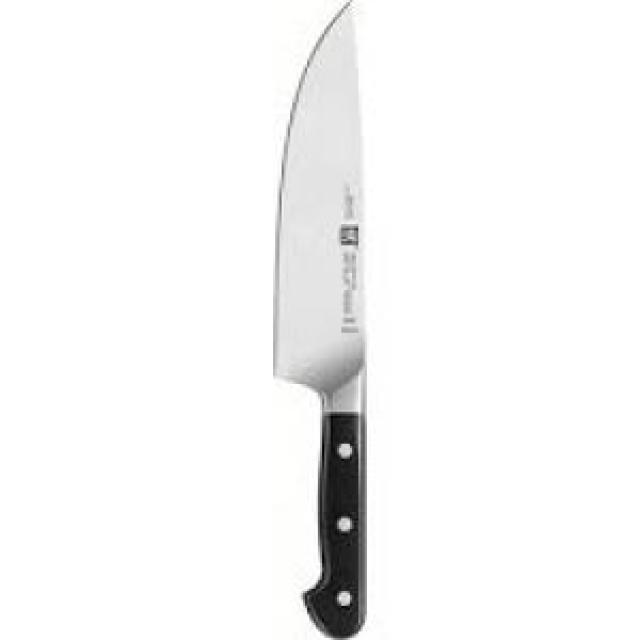knife: (264, 0, 367, 638)
